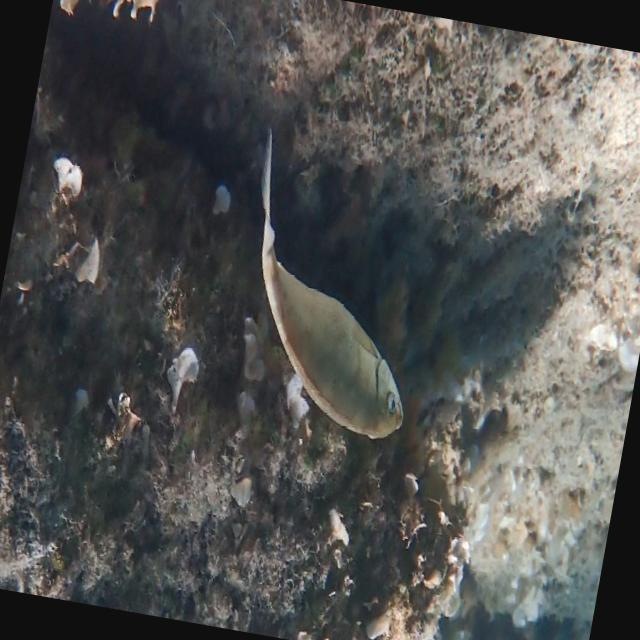Sokar Baligi: (200, 119, 464, 472)
